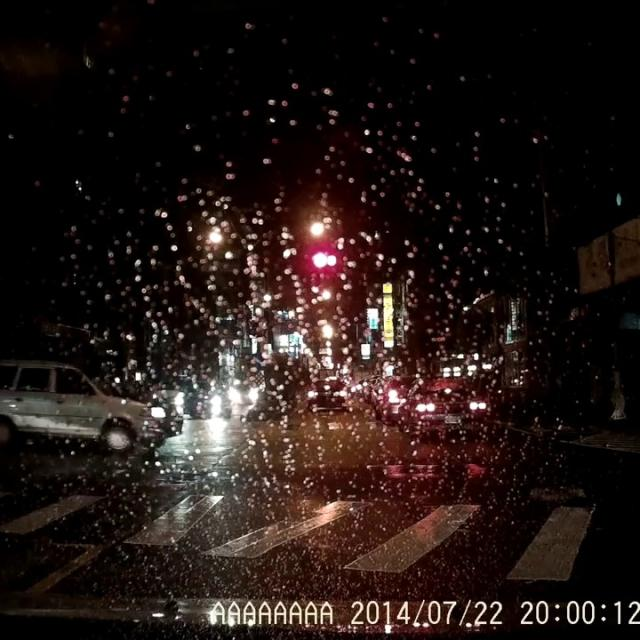Car: (0, 354, 181, 458), (395, 374, 480, 444), (367, 376, 405, 424), (304, 376, 350, 412)
